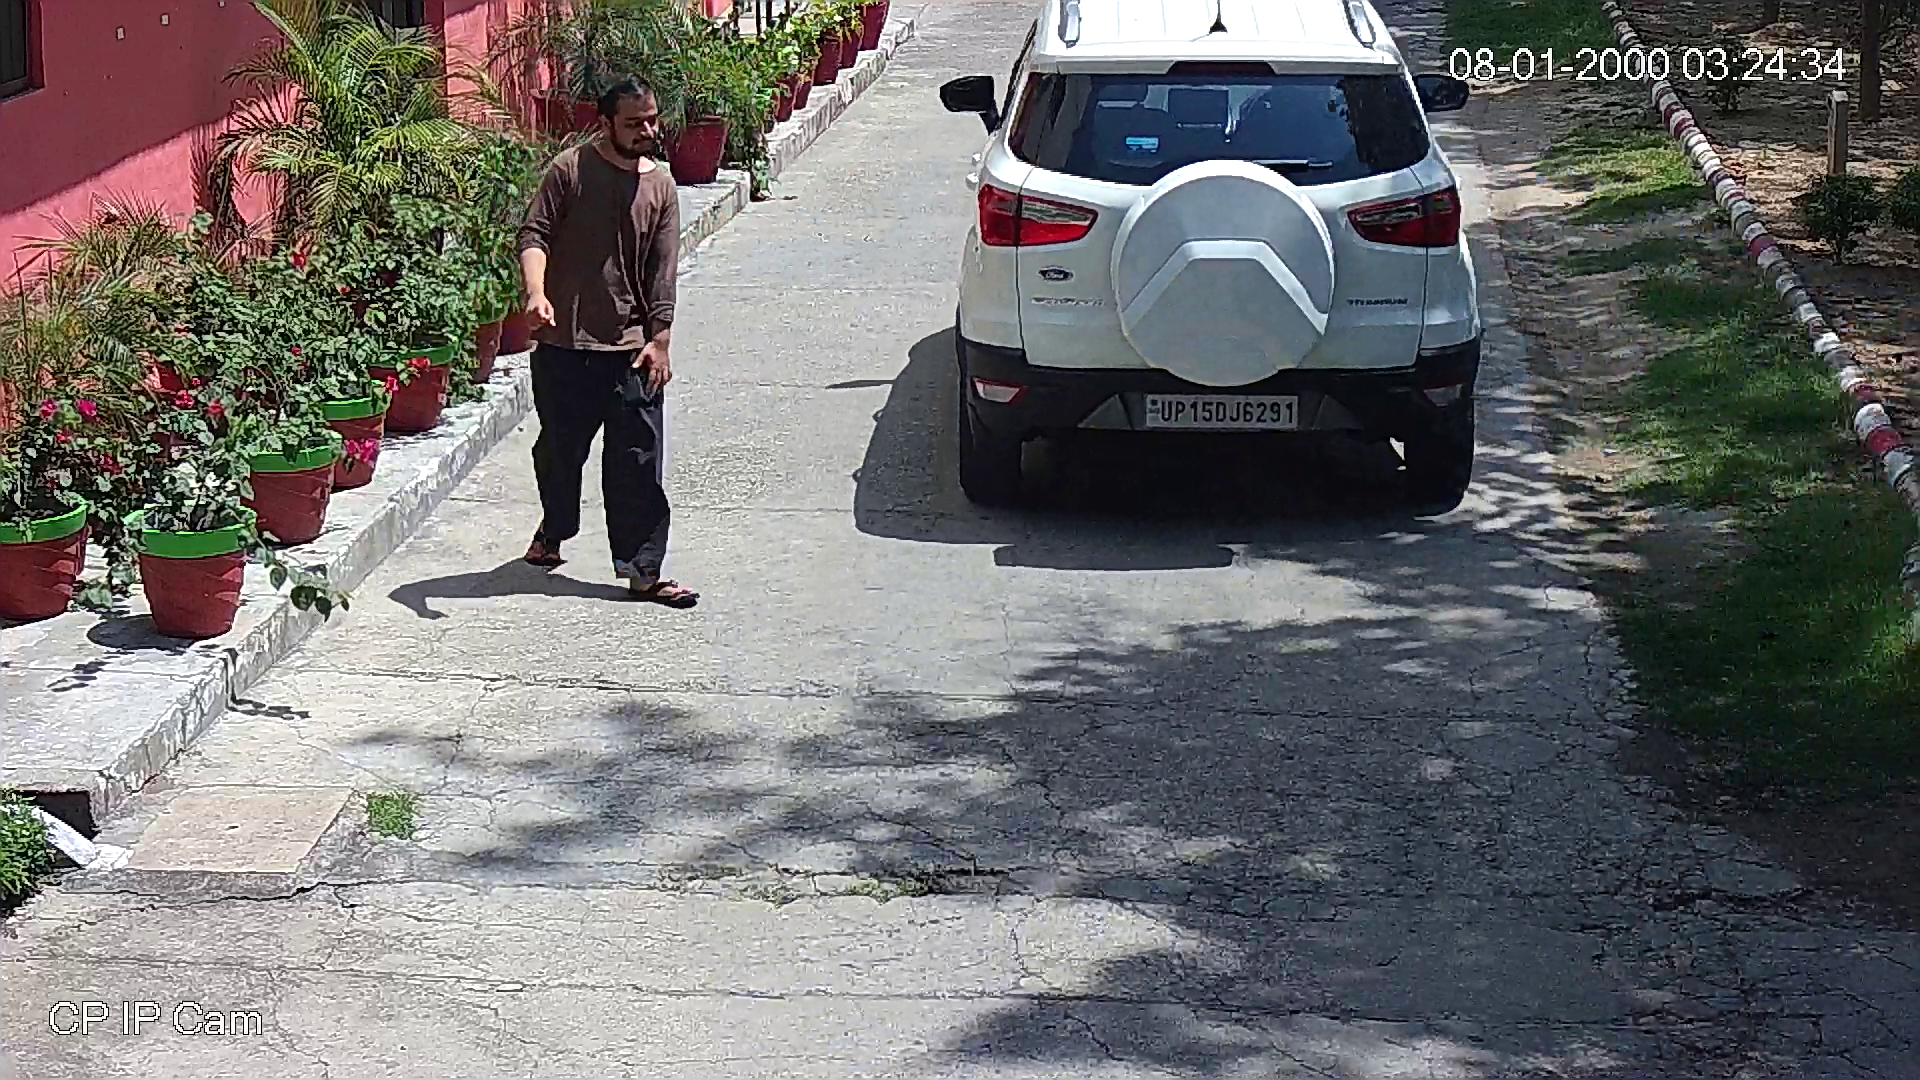plate: (1138, 389, 1306, 435)
